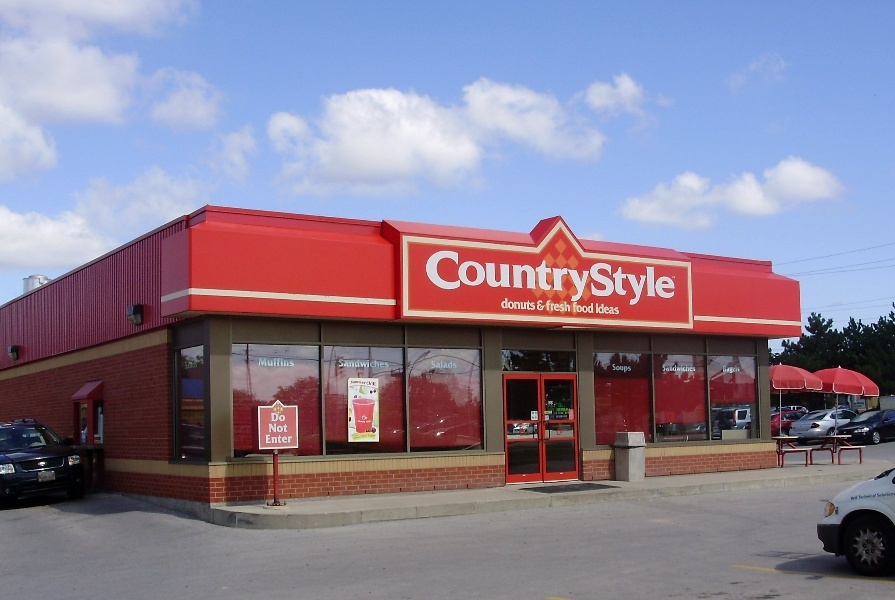text: (433, 249, 448, 310), (449, 249, 464, 310), (465, 249, 480, 310), (481, 249, 496, 310), (497, 249, 512, 310), (513, 249, 528, 310), (529, 249, 544, 310), (545, 249, 560, 310), (561, 249, 576, 310), (577, 249, 592, 310), (593, 249, 608, 310), (609, 249, 624, 310), (625, 249, 640, 310), (641, 249, 656, 310), (657, 249, 672, 310), (427, 249, 432, 310), (513, 298, 528, 311), (673, 249, 676, 310), (546, 300, 560, 313), (577, 302, 592, 314), (353, 358, 368, 369), (369, 358, 384, 369), (596, 302, 608, 315), (338, 358, 352, 369), (273, 357, 288, 367), (273, 423, 288, 433), (273, 434, 288, 444), (501, 298, 512, 311), (612, 363, 624, 374), (259, 357, 272, 367), (561, 300, 571, 313), (273, 412, 286, 422), (609, 302, 619, 315), (433, 361, 448, 369), (673, 364, 688, 372), (723, 365, 736, 374), (536, 300, 544, 312), (529, 298, 536, 311), (185, 358, 192, 370), (881, 492, 895, 498), (662, 364, 672, 372), (865, 493, 876, 500), (449, 361, 458, 369), (625, 363, 631, 374), (851, 496, 864, 501), (289, 357, 295, 367), (193, 358, 198, 370), (266, 434, 272, 444), (689, 364, 696, 372), (357, 420, 368, 425), (353, 381, 366, 385), (854, 404, 864, 409), (369, 381, 377, 387), (561, 407, 570, 412), (385, 358, 389, 369), (858, 493, 864, 500), (289, 434, 293, 444), (856, 401, 864, 406), (573, 302, 576, 314), (561, 415, 569, 419), (269, 423, 272, 433), (737, 365, 740, 374), (561, 412, 570, 415), (369, 420, 373, 425), (555, 415, 560, 419), (877, 492, 880, 498), (430, 361, 432, 369), (557, 407, 560, 412), (555, 412, 560, 415), (593, 302, 594, 314), (271, 412, 272, 422), (367, 381, 368, 387), (865, 401, 866, 406), (351, 381, 352, 385)
